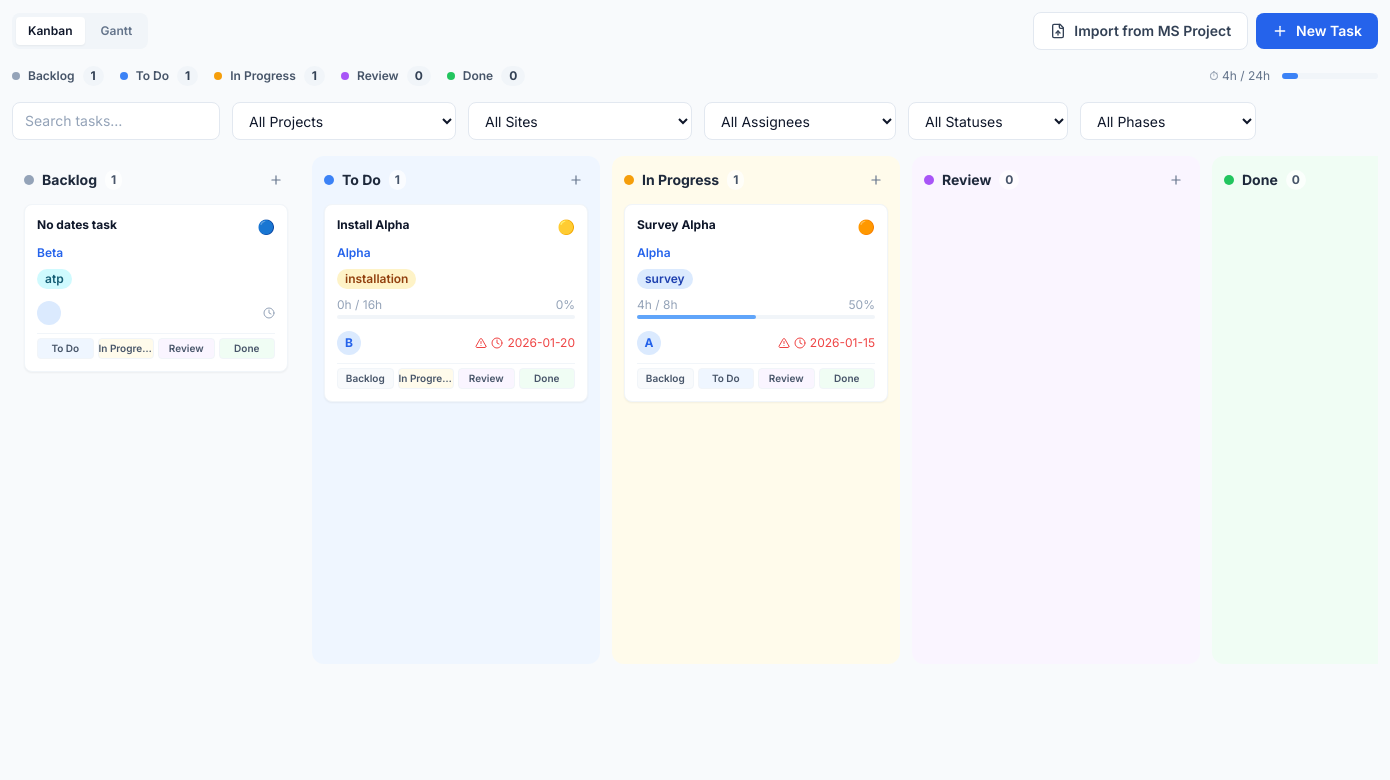
Scenario: TaskBoard — tabs › switches to the Gantt tab and renders project groups + bars + unscheduled panel
What coordinates should you click on to do the following:
click the tab "gantt"
I would click on:
 (116, 31)
Its box is [88, 17, 144, 45].
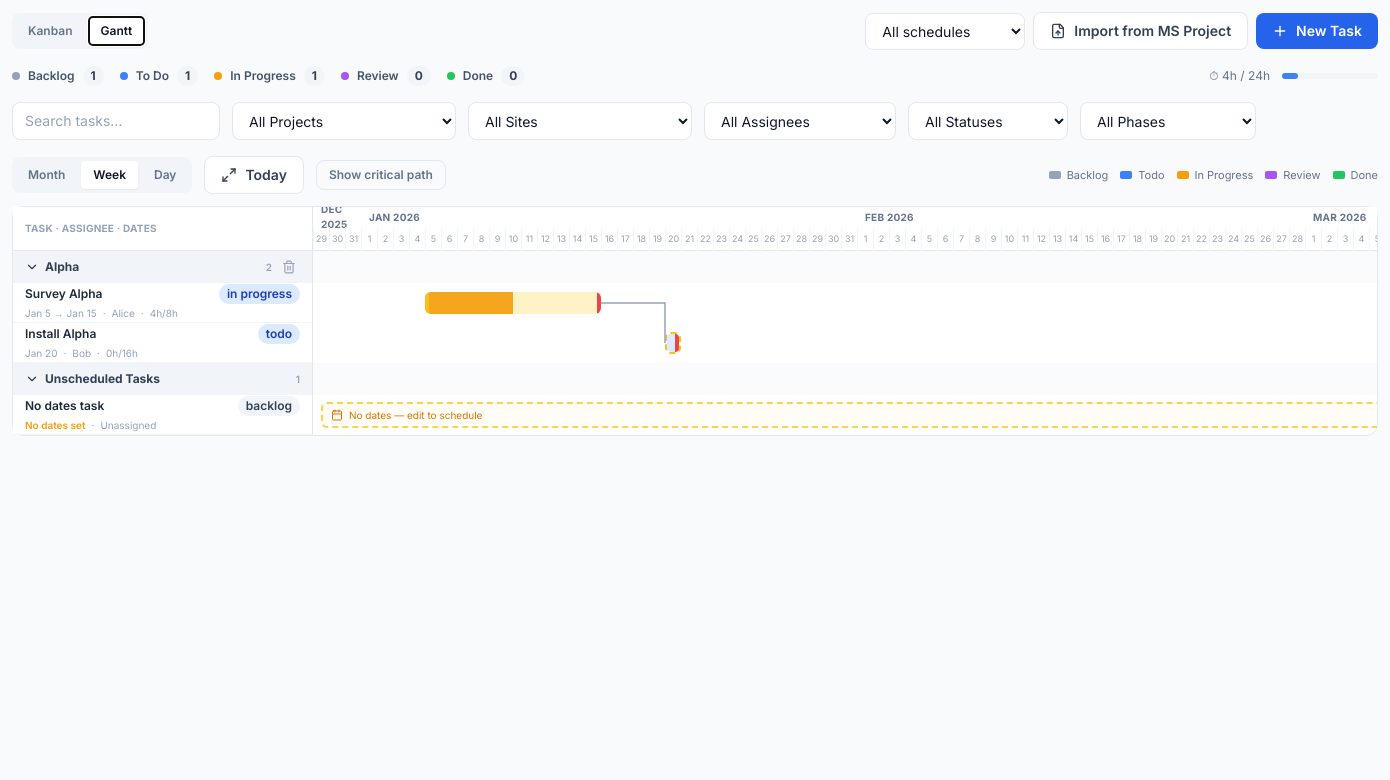
Check: the text "Unscheduled Tasks" is shown, box [45, 371, 160, 386]
Check: the button named "Survey Alpha, 50%" is shown, box [425, 292, 601, 314]
Check: the button named "Install Alpha, 0%" is shown, box [665, 332, 681, 354]
